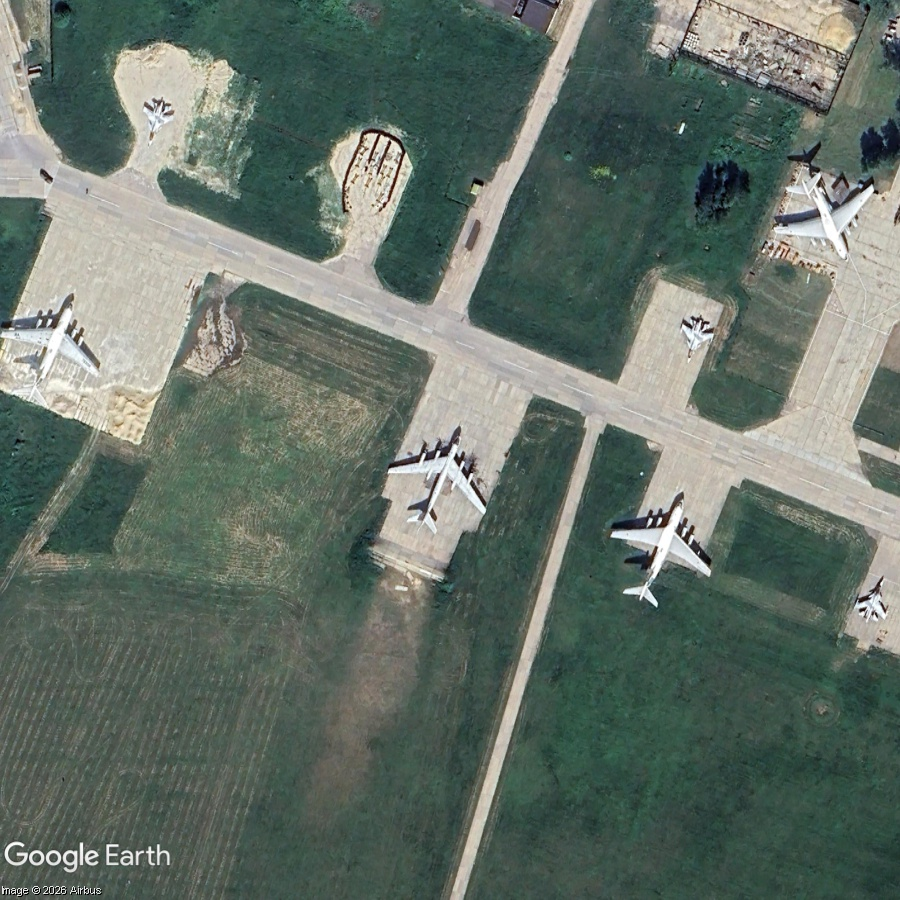Máy bay chiến đấu: (847, 567, 900, 632), (669, 310, 719, 371), (131, 92, 180, 153)
Máy bay ném bom: (367, 409, 514, 555)
Máy bay vận tải/Tiếp dầu: (586, 473, 738, 629), (754, 145, 899, 290), (0, 276, 124, 423)
